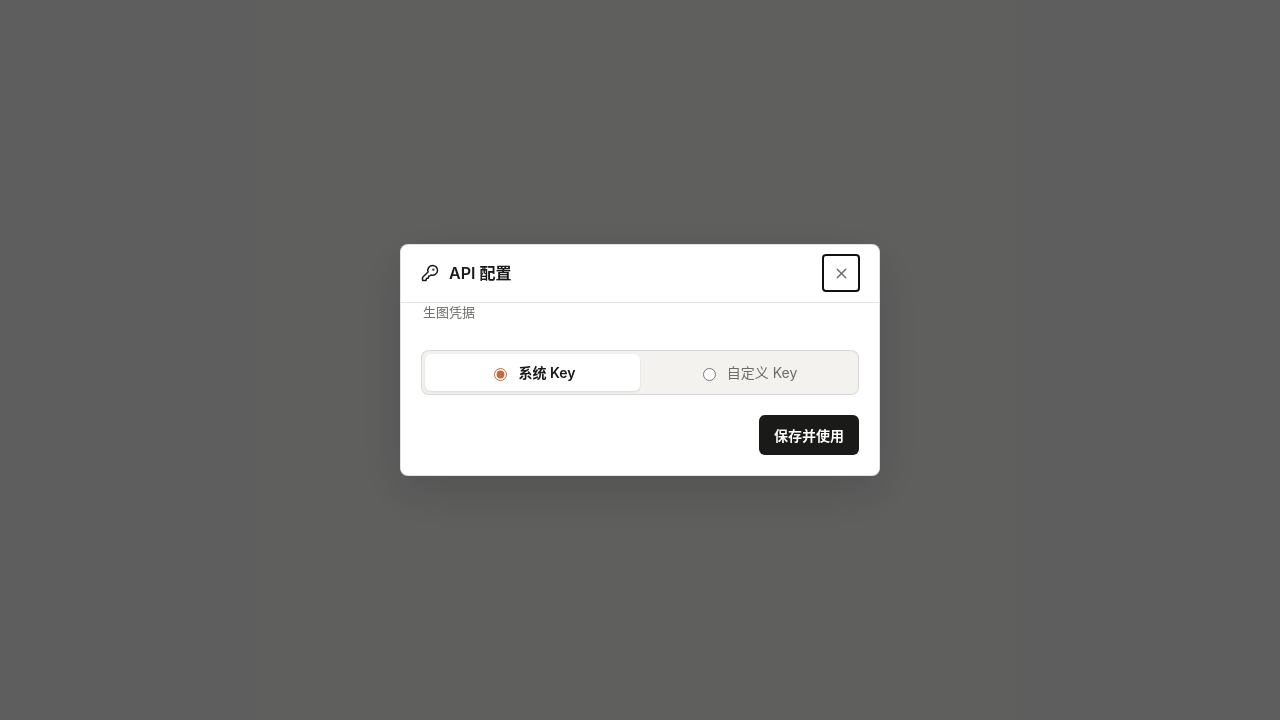
it: ApiKeyModal › shows the fixed read-only URL and validates blank custom input locally
The width and height of the screenshot is (1280, 720).
What coordinates should you click on to do the following:
click the radio button labelled "自定义 Key"
I would click on:
 (709, 374)
Its box is x1=703 y1=368 x2=716 y2=381.
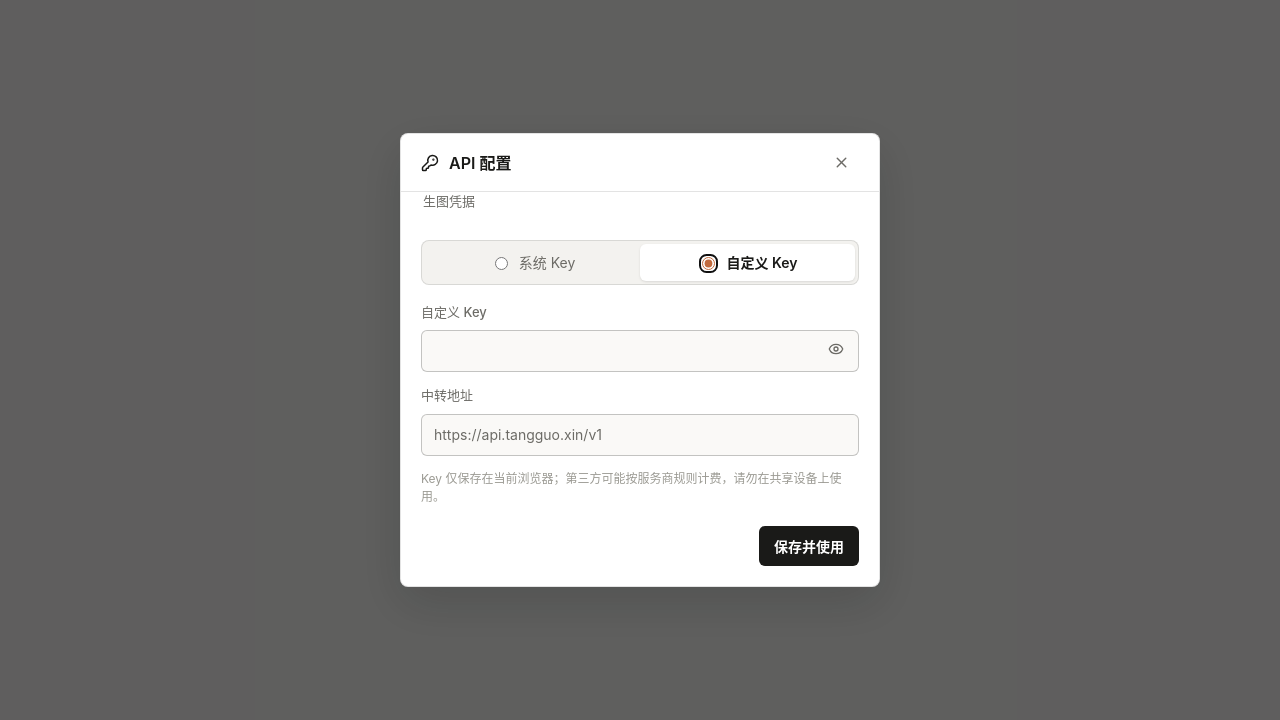
Expected: the text "Key 仅保存在当前浏览器；第三方可能按服务商规则计费，请勿在共享设备上使用。" is shown, x1=421 y1=470 x2=859 y2=506
What coordinates should you click on to do the following:
click the button "保存并使用"
I would click on:
 (809, 546)
Its box is x1=759 y1=526 x2=859 y2=566.
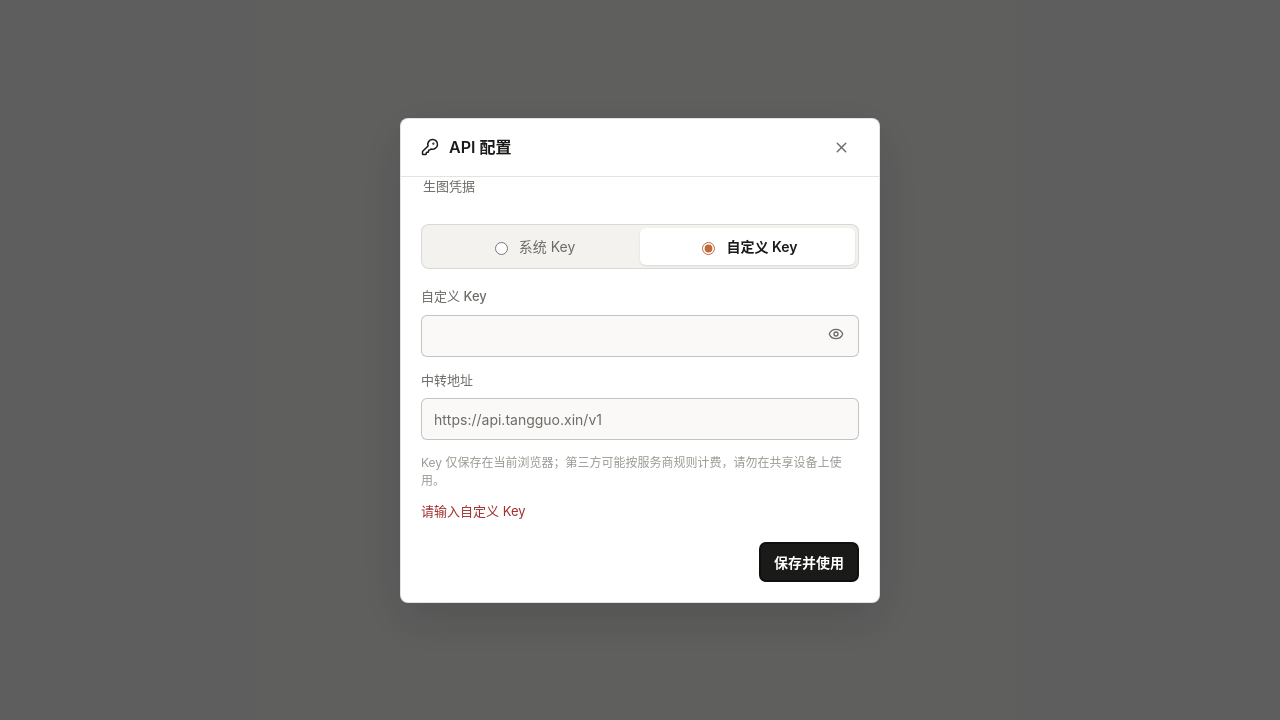
Expected: the message reads "请输入自定义 Key", x1=421 y1=503 x2=526 y2=519
